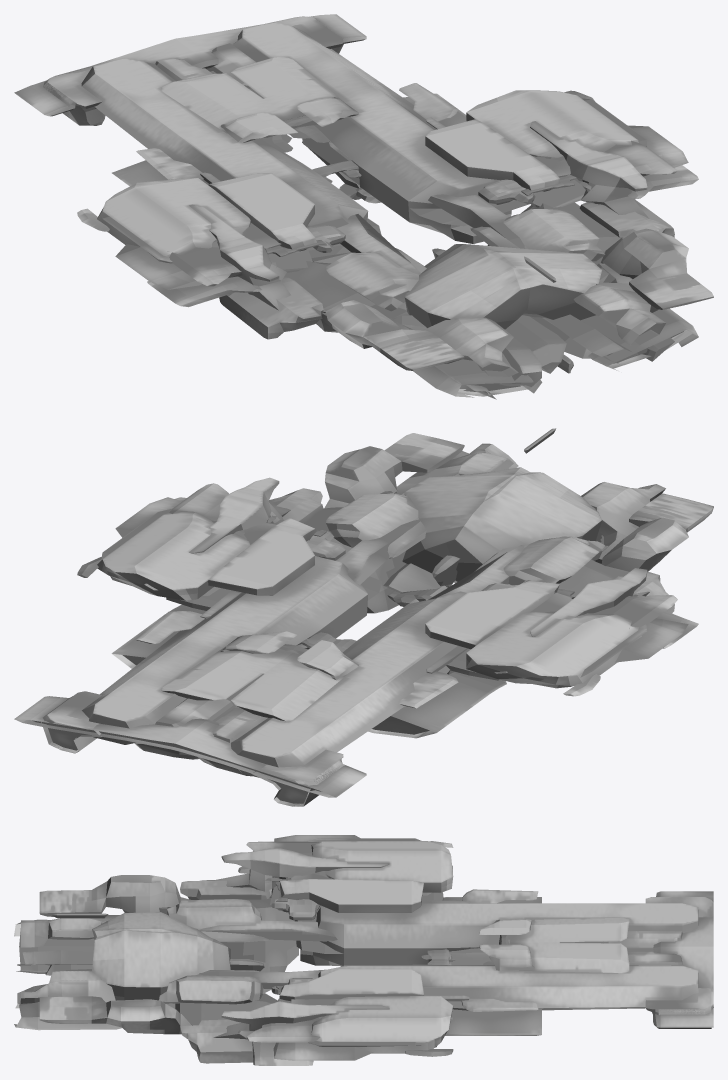
The model's file is Cruiser000.fbx.
The picture shows the model from 3 angles, top to bottom: view 1: azimuth 30°, elevation 25°; view 2: azimuth 150°, elevation 25°; view 3: azimuth 270°, elevation 25°; orthographic projection. The views are drawn at different scales.
Parts seen in each view (by area): view 1: Cruiser000; view 2: Cruiser000; view 3: Cruiser000.
Part boxes in pixels (x1,y1,x2,y2): Cruiser000: (14,14,713,399); Cruiser000: (14,428,713,806); Cruiser000: (14,835,713,1065).
Bounding box in the file's own units: 42.56 × 8.45 × 55.78.
